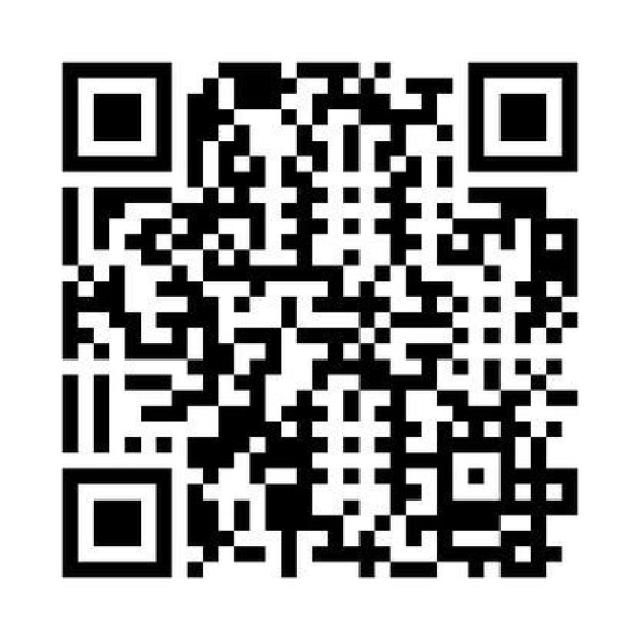QRCode: (54, 51, 584, 584)
